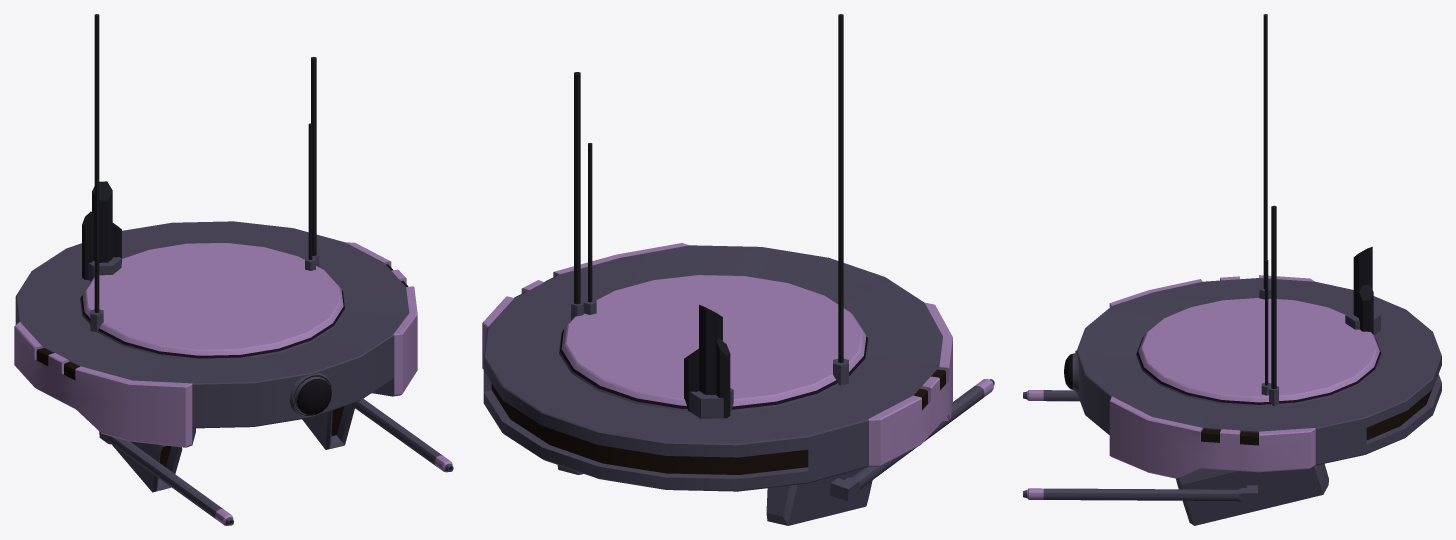
The model's file is mdlSniperSpotter.fbx.
The picture shows the model from 3 angles, left to right: view 1: azimuth 30°, elevation 25°; view 2: azimuth 150°, elevation 25°; view 3: azimuth 270°, elevation 25°; orthographic projection. The views are drawn at different scales.
Visible parts, largest first — view 1: meshSniperDefault_CriticalHitCarl; view 2: meshSniperDefault_CriticalHitCarl; view 3: meshSniperDefault_CriticalHitCarl.
Part boxes in pixels (left/top/right/bottom): meshSniperDefault_CriticalHitCarl: left=14, top=14, right=453, bottom=525; meshSniperDefault_CriticalHitCarl: left=482, top=14, right=994, bottom=525; meshSniperDefault_CriticalHitCarl: left=1023, top=14, right=1441, bottom=525.
Size of the model in its own units: 207 by 252 by 229.
